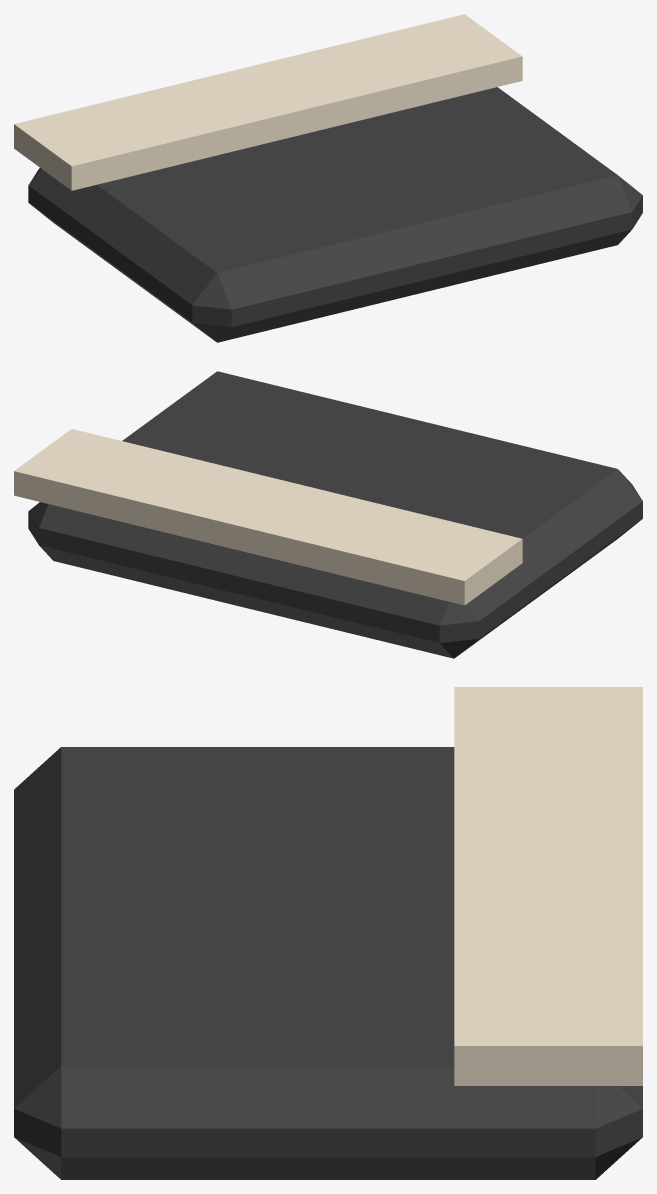
3 renders of one model, top to bottom at view 1: azimuth 30°, elevation 25°; view 2: azimuth 150°, elevation 25°; view 3: azimuth 270°, elevation 25°, orthographic. The views are drawn at different scales.
Visible parts, largest first — view 1: Document pouch, Flap; view 2: Document pouch, Flap; view 3: Document pouch, Flap.
Part boxes in pixels (box(x1,y1,x2,y2)): Document pouch: box(28, 87, 642, 342); Flap: box(14, 14, 522, 190); Document pouch: box(28, 371, 642, 658); Flap: box(14, 429, 522, 605); Document pouch: box(14, 747, 642, 1179); Flap: box(454, 687, 642, 1085).
Bounding box in the file's own units: 0.27 × 0.054 × 0.2.
1 material, 1 textured.
